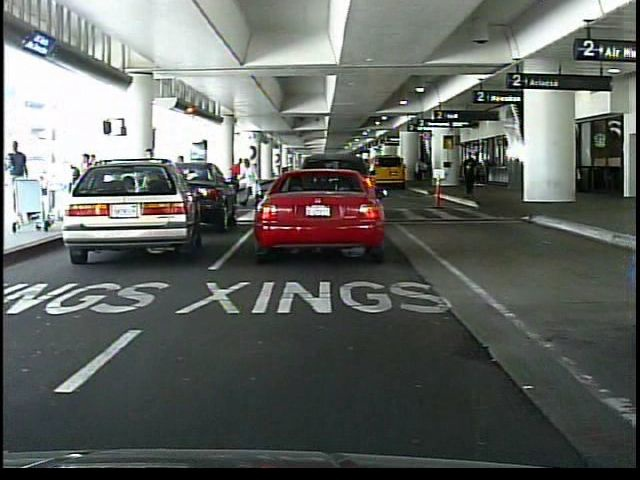person: (7, 138, 35, 224), (143, 144, 161, 221), (243, 157, 261, 206), (228, 154, 245, 204), (464, 153, 481, 196), (415, 155, 427, 189)
